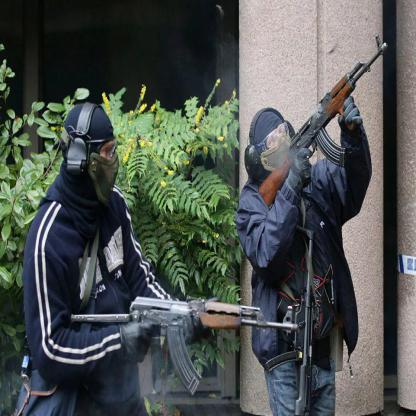rifle: (257, 34, 393, 205), (70, 300, 307, 396)
